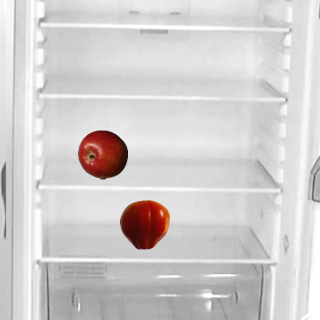Apple Braeburn: (77, 129, 127, 179)
Tomato 1: (119, 199, 169, 249)
